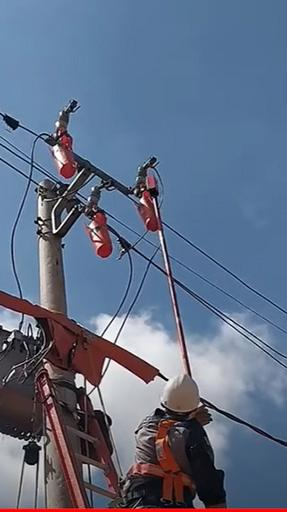Detector_Tensao_Contato: (143, 173, 160, 196)
Vara_Manobra: (149, 197, 193, 394)
